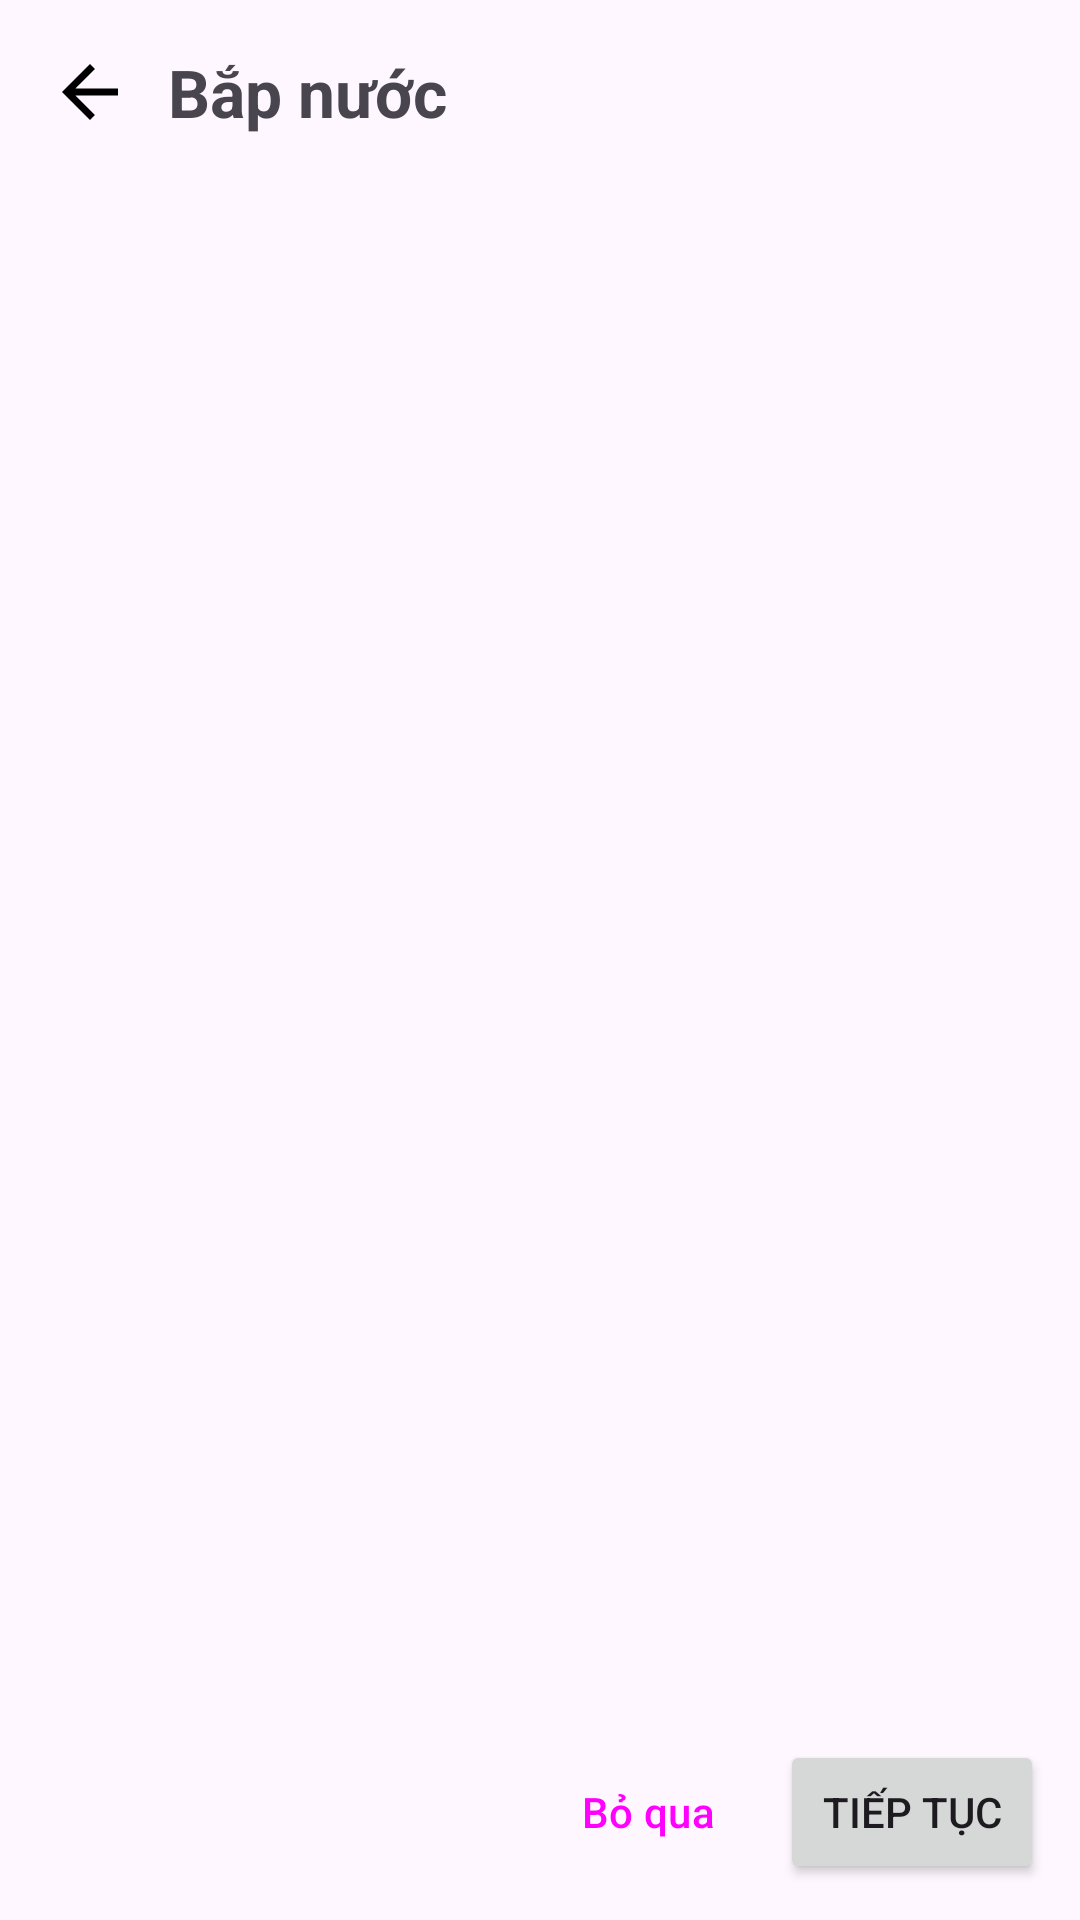

Icon bounding boxes for this 1080px×1920px phone screenshot, format (x1, y1, x2, y2):
arrow back: (62, 64, 118, 120)
